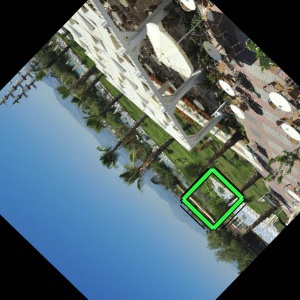square: (177, 165, 247, 233)
